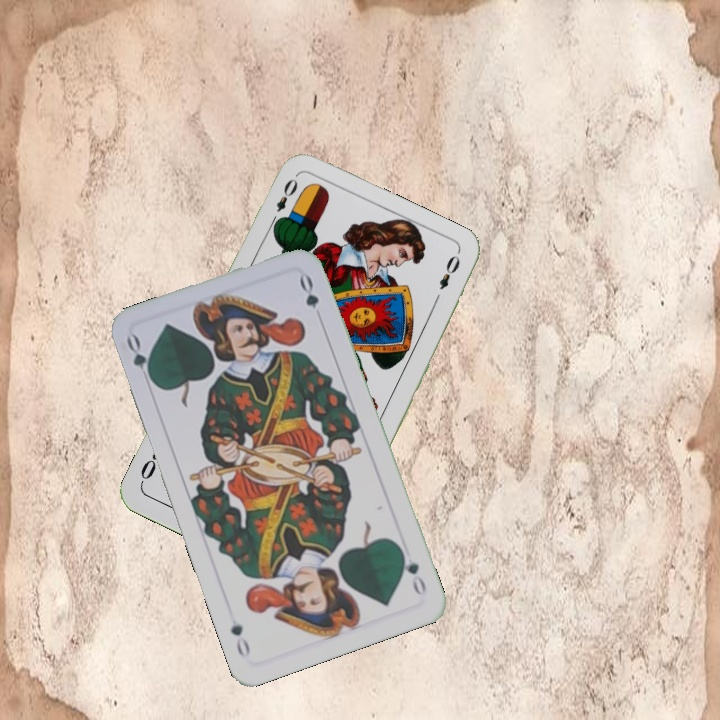EO: (266, 174, 301, 229)
GO: (122, 331, 158, 387), (395, 544, 429, 598)
